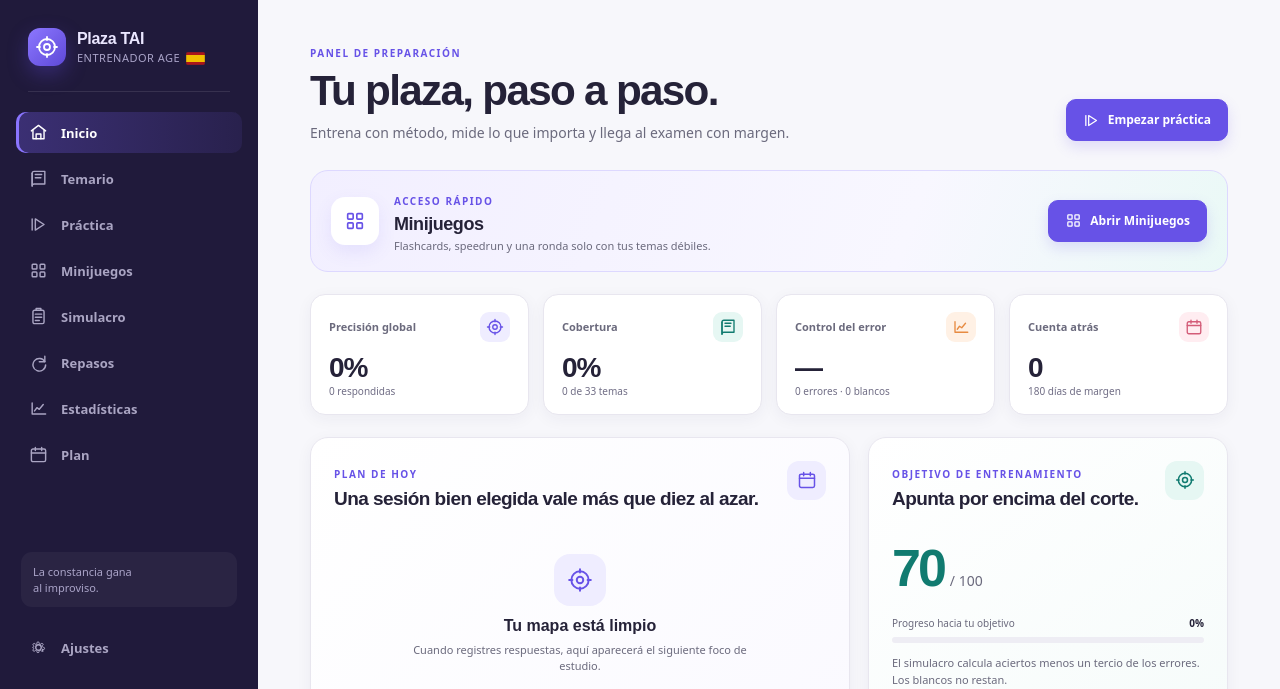
App smoke flow › muestra los ajustes con persistencia local
The image size is (1280, 689).
Click the button "Ajustes" at (129, 648), box [16,627,242,668]
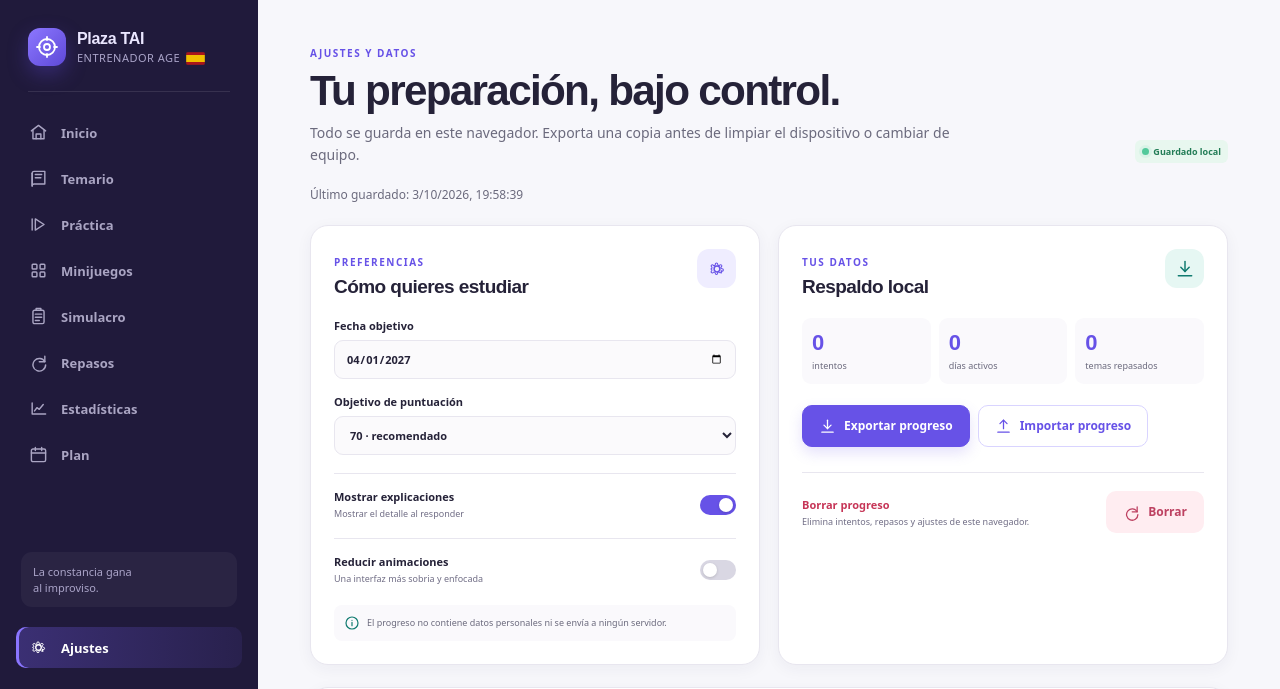
Check: the heading "Tu preparación, bajo control." is shown, box [310,67,840,114]
Check: the text "Guardado local" is shown, box [1135,140,1228,163]
